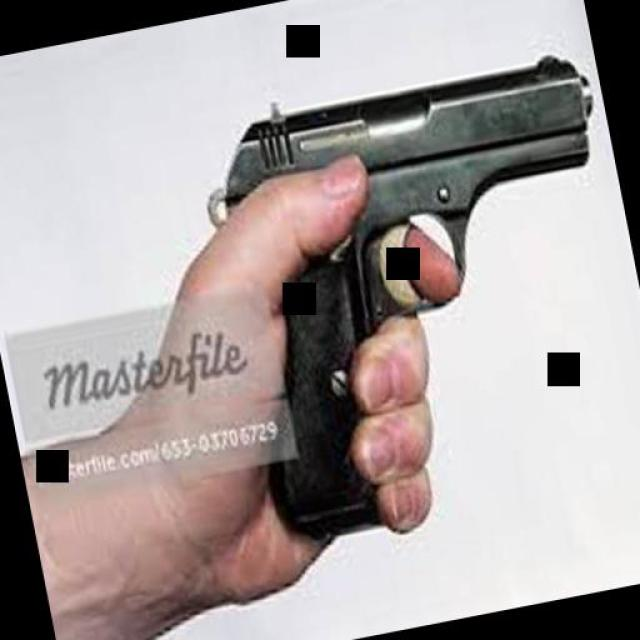gun: (194, 32, 640, 552)
